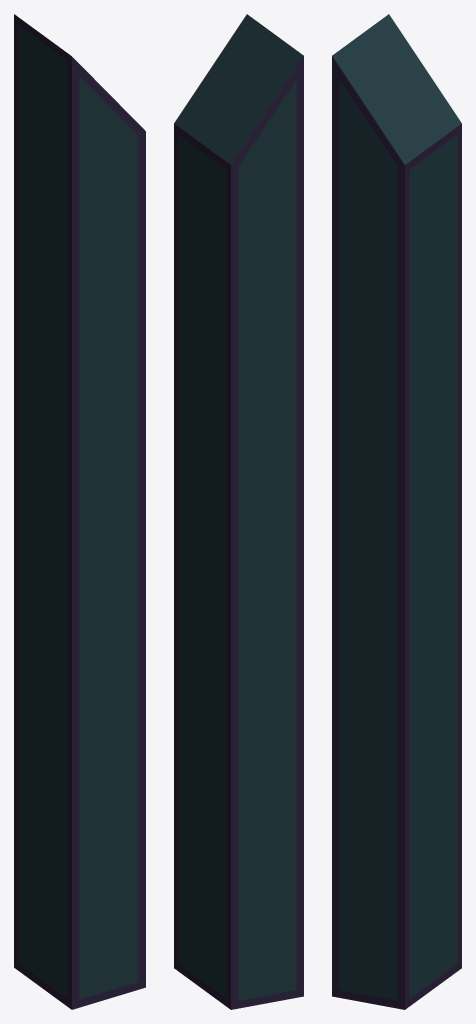
The model's file is Pilar_Mesh.fbx.
The picture shows the model from 3 angles, left to right: view 1: azimuth 30°, elevation 25°; view 2: azimuth 210°, elevation 25°; view 3: azimuth 330°, elevation 25°; orthographic projection.
Visible parts, largest first — view 1: Cube.004, Cube.005; view 2: Cube.004, Cube.005; view 3: Cube.004, Cube.005.
Boxes of the visible parts, x1,y1,x2,y2 form: Cube.004: (18, 25, 138, 999); Cube.005: (14, 14, 145, 1009); Cube.004: (174, 14, 303, 1000); Cube.005: (174, 56, 303, 1009); Cube.004: (332, 14, 461, 1000); Cube.005: (332, 56, 461, 1009).
Size of the model in its own units: 103 by 1274 by 140.
